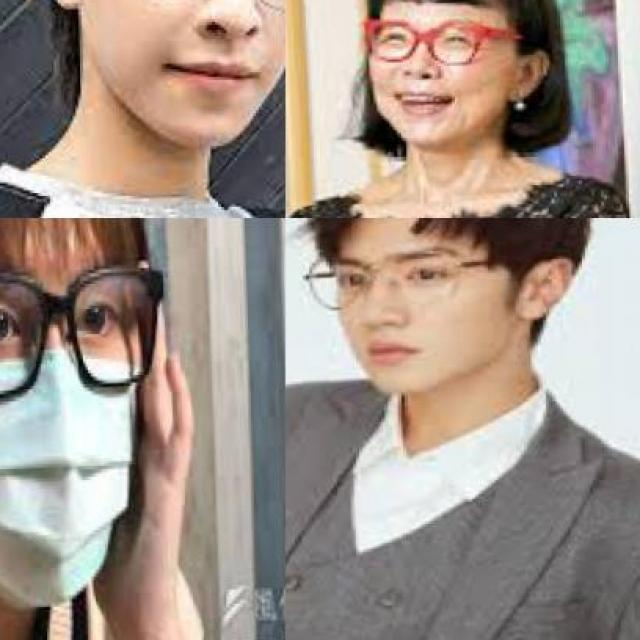Glasses: (0, 262, 174, 409), (290, 247, 518, 316), (360, 14, 522, 71), (92, 0, 284, 25)
